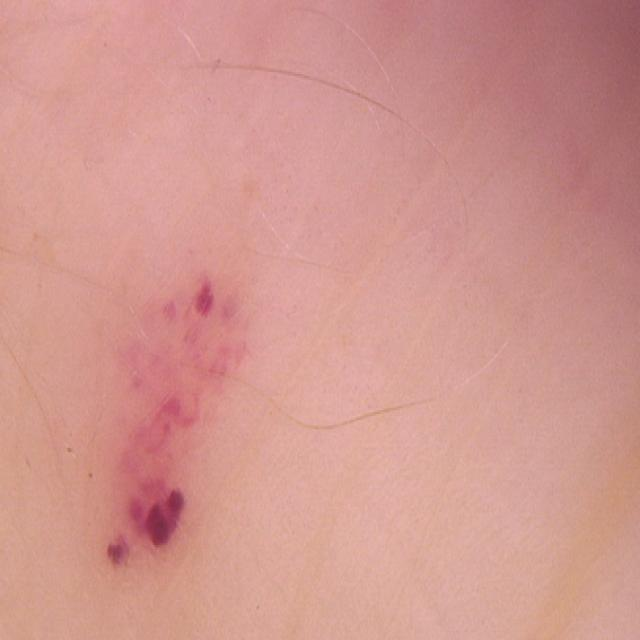Vascular Lesions: (88, 218, 265, 609)
